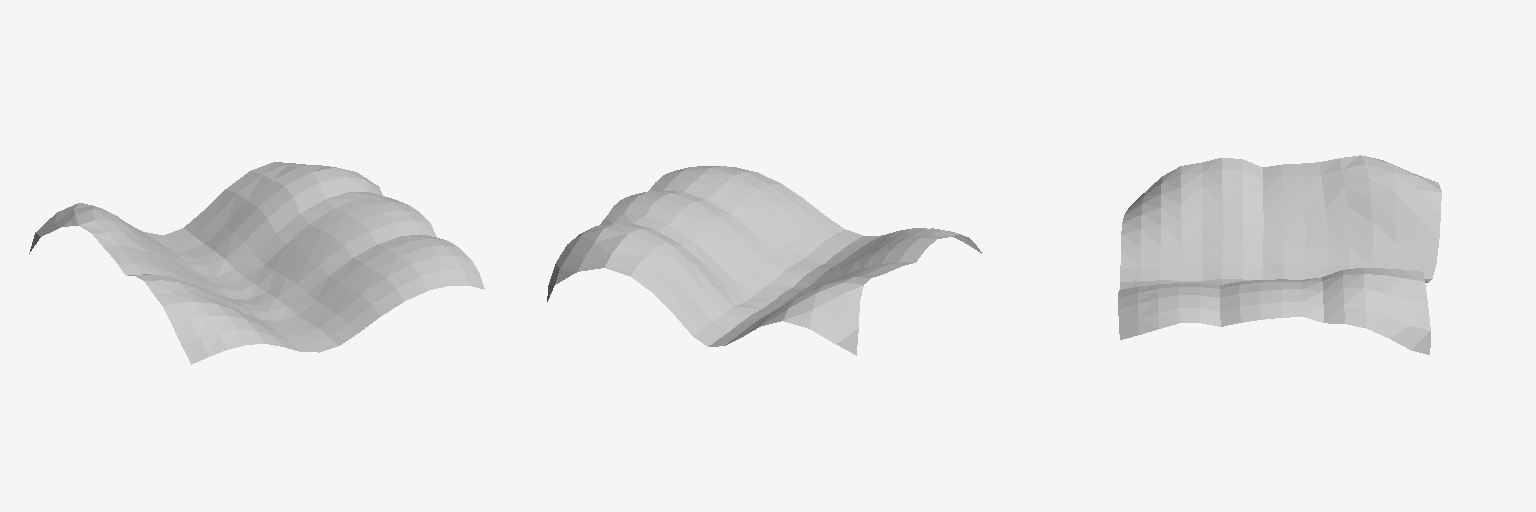
File: boulder3.obj
3 renders of one model, left to right at view 1: azimuth 30°, elevation 25°; view 2: azimuth 150°, elevation 25°; view 3: azimuth 270°, elevation 25°, orthographic.
Parts seen in each view (by area): view 1: Grid.002; view 2: Grid.002; view 3: Grid.002.
Boxes of the visible parts, box(x1,y1,x2,y2) form: Grid.002: box(29, 162, 484, 364); Grid.002: box(547, 166, 981, 355); Grid.002: box(1118, 155, 1441, 354).
Size of the model in its own units: 9.52 by 1.97 by 8.46.